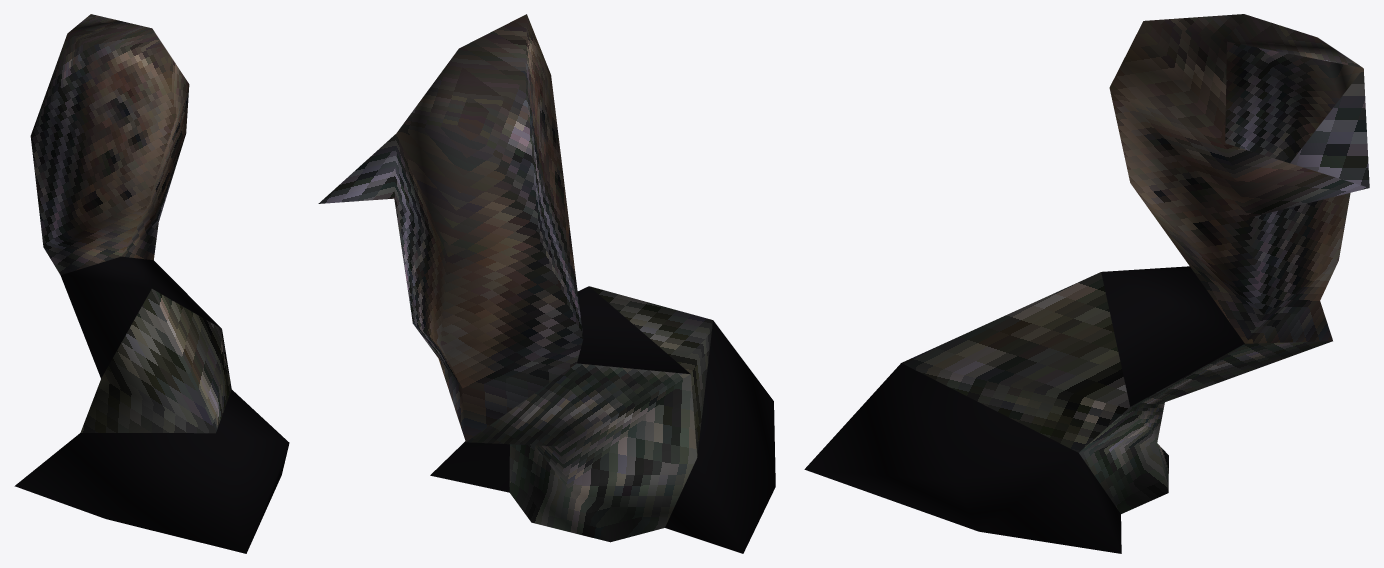
File: aliengrunt_pierna_der.obj
3 renders of one model, left to right at view 1: azimuth 30°, elevation 25°; view 2: azimuth 150°, elevation 25°; view 3: azimuth 270°, elevation 25°, orthographic. The views are drawn at different scales.
Bounding box in the file's own units: 0.579 × 0.8788 × 0.9313.
